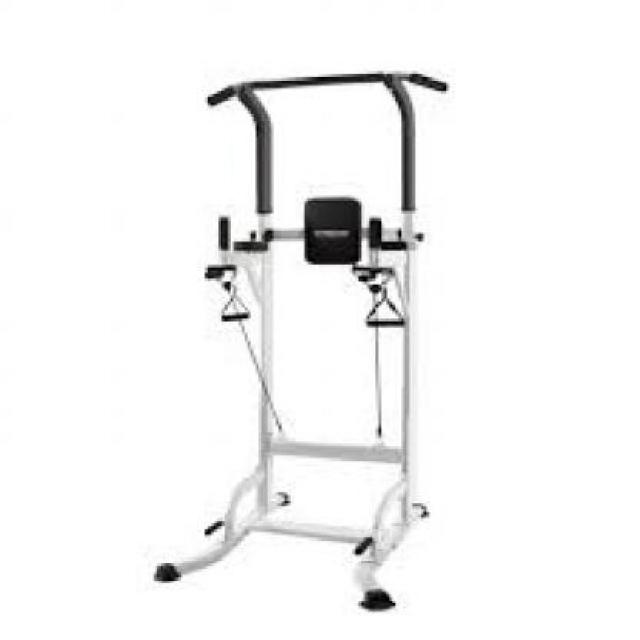chinning dipping: (154, 69, 449, 611)
